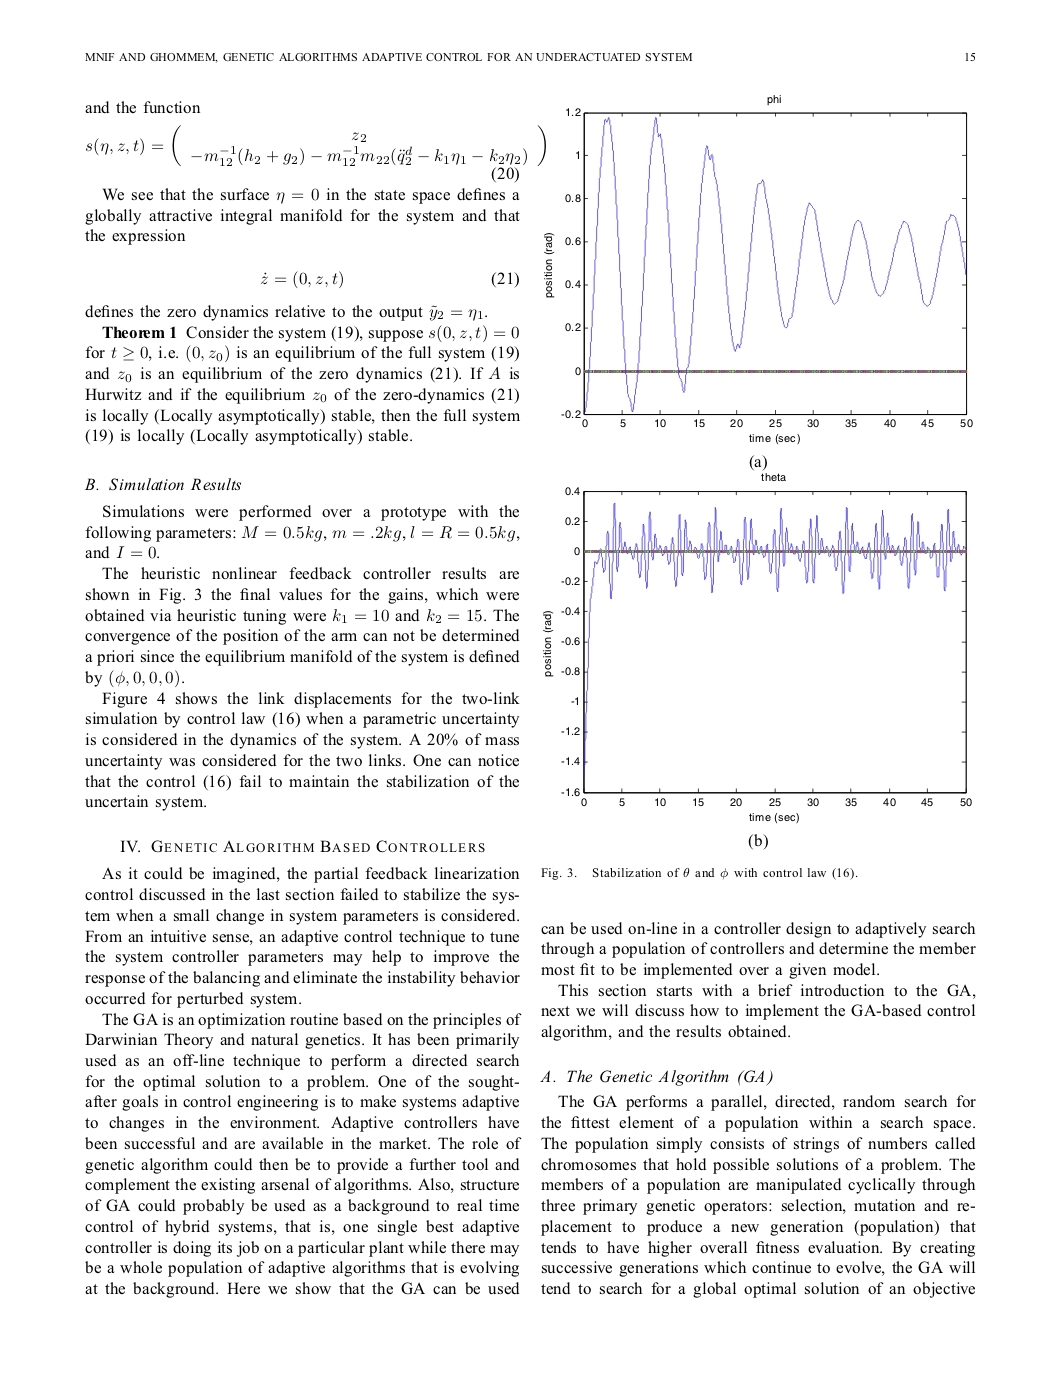figure: (537, 95, 972, 456), (543, 478, 971, 836)
formula: (86, 124, 526, 183), (260, 270, 518, 289)
